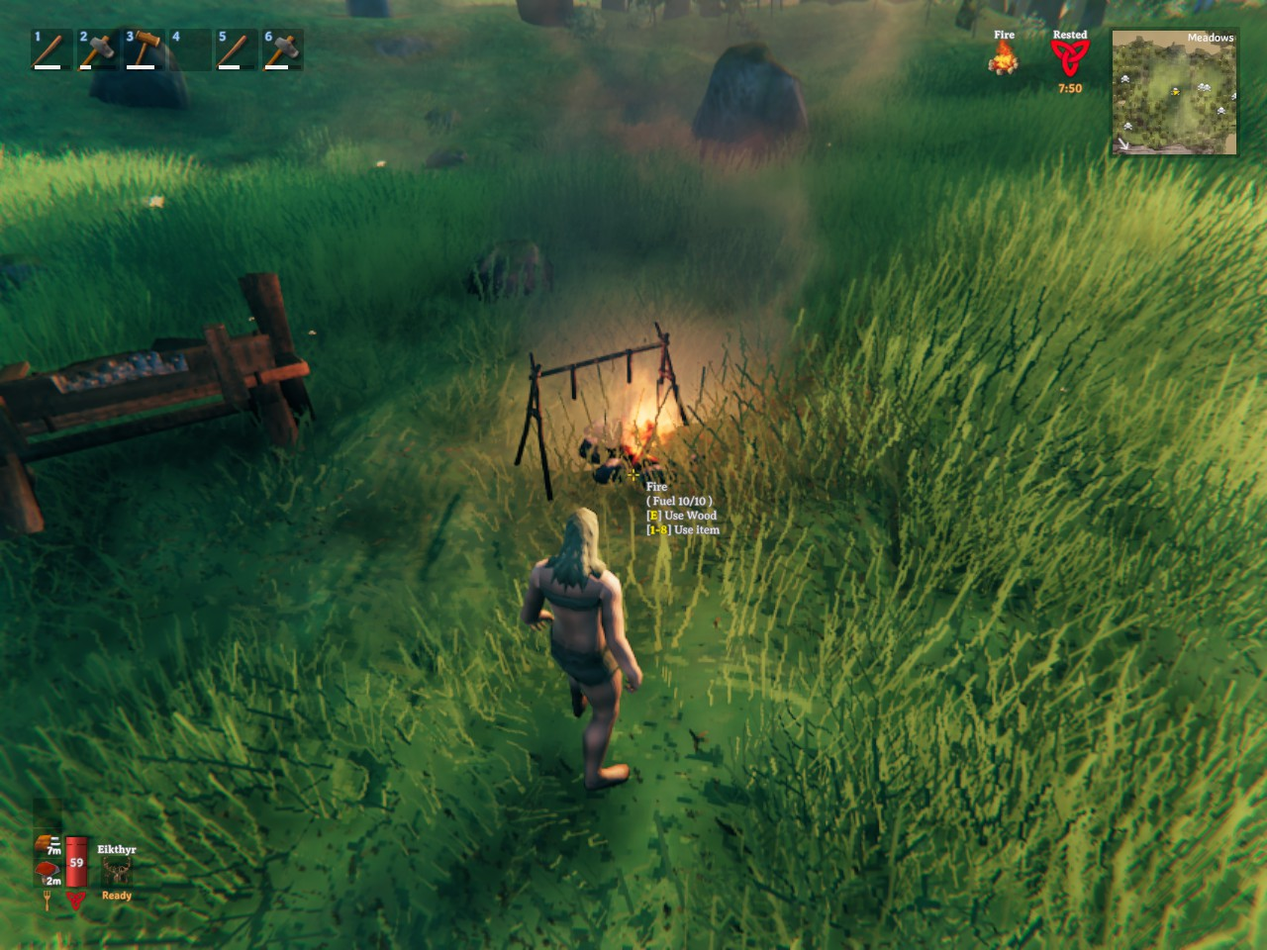Cook Station: (530, 323, 688, 424), (515, 398, 543, 464)
Fire: (573, 408, 682, 475)
Food Indicator: (36, 797, 63, 891)
Health Bar: (63, 820, 90, 891)
Hotbar: (25, 21, 398, 78)
Status Indicator: (968, 25, 1110, 96)
Workbench: (0, 275, 310, 534)
